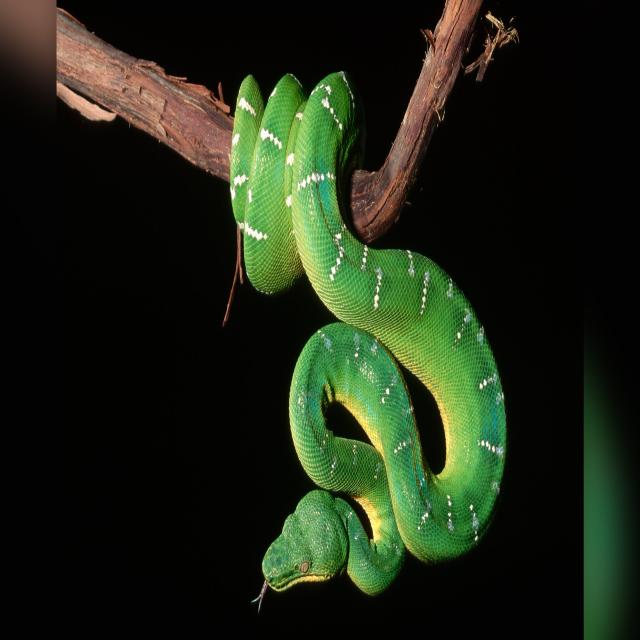Snake: (224, 64, 511, 614)
